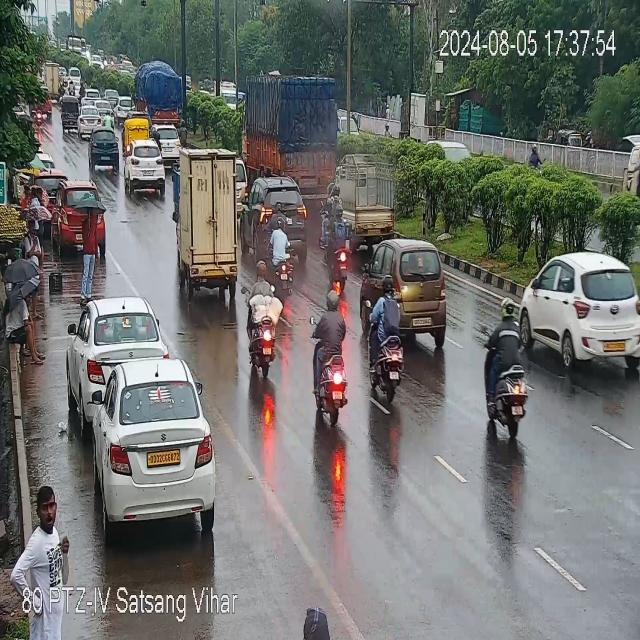2-wheelers: (489, 286, 532, 441), (363, 269, 404, 407), (314, 278, 346, 418), (248, 278, 286, 384), (7, 298, 44, 368), (273, 210, 294, 298), (332, 200, 350, 294), (326, 177, 342, 228), (34, 99, 43, 130)
auto: (123, 117, 151, 148), (60, 97, 79, 134)
car: (92, 359, 217, 526), (515, 249, 640, 367), (70, 297, 165, 404), (365, 237, 454, 341), (245, 175, 304, 262), (52, 179, 104, 251), (122, 156, 167, 197), (88, 123, 120, 171), (152, 126, 182, 165), (113, 97, 135, 121), (80, 106, 98, 130)
pedestrian: (18, 484, 67, 576), (22, 184, 50, 251), (82, 201, 98, 302), (26, 213, 40, 318)
truck: (177, 152, 246, 298), (248, 75, 331, 186), (339, 154, 394, 236), (139, 61, 181, 122)
